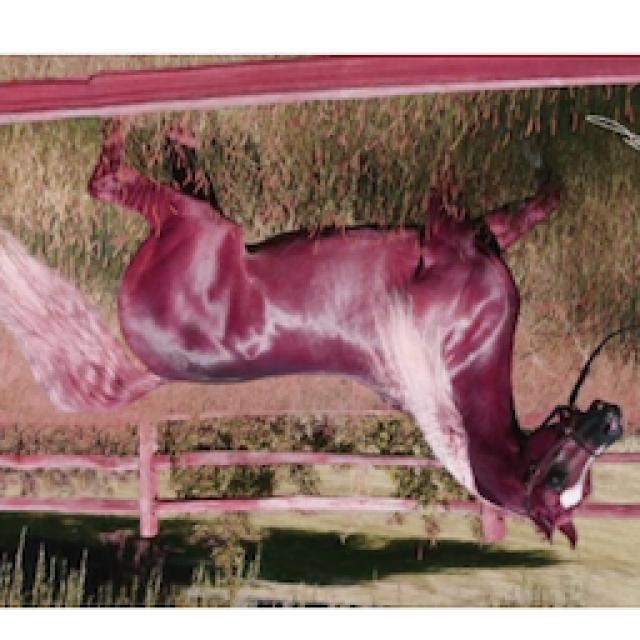Horse: (0, 115, 635, 555)
